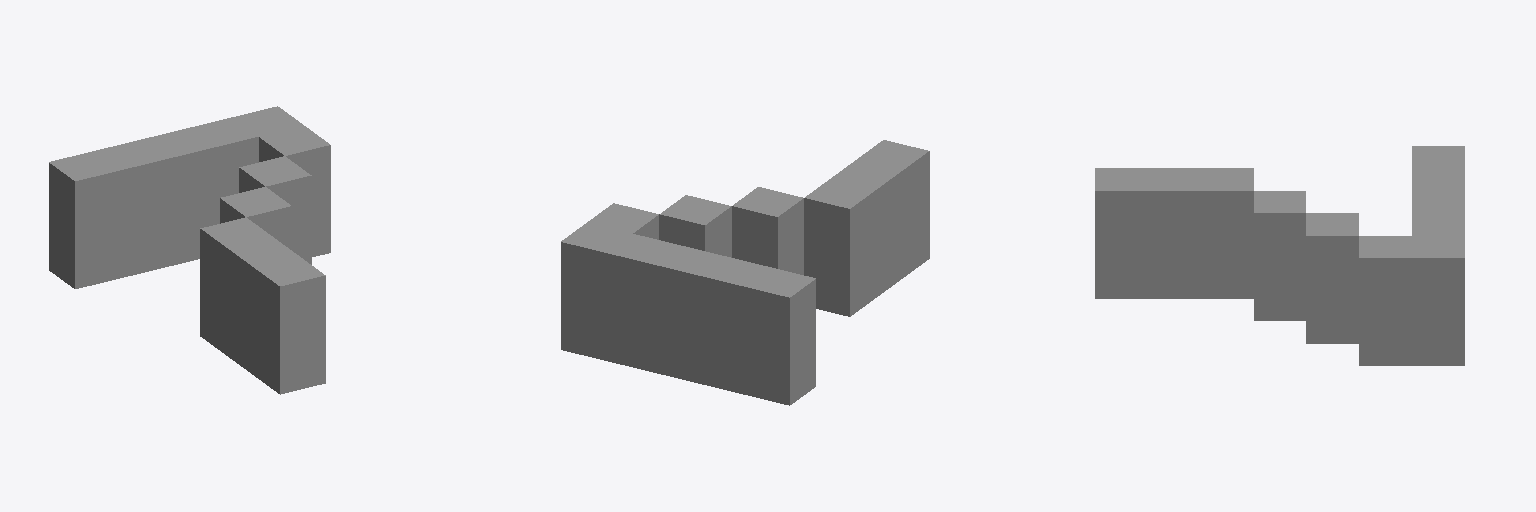
3 renders of one model, left to right at view 1: azimuth 30°, elevation 25°; view 2: azimuth 150°, elevation 25°; view 3: azimuth 270°, elevation 25°, orthographic.
Parts seen in each view (by area): view 1: 7_CUABC.034; view 2: 7_CUABC.034; view 3: 7_CUABC.034.
Part boxes in pixels (bbox=[...]): 7_CUABC.034: bbox=[49, 106, 330, 394]; 7_CUABC.034: bbox=[561, 140, 929, 405]; 7_CUABC.034: bbox=[1095, 146, 1464, 365].
Bounding box in the file's own units: 0.5556 × 0.25 × 0.7778.